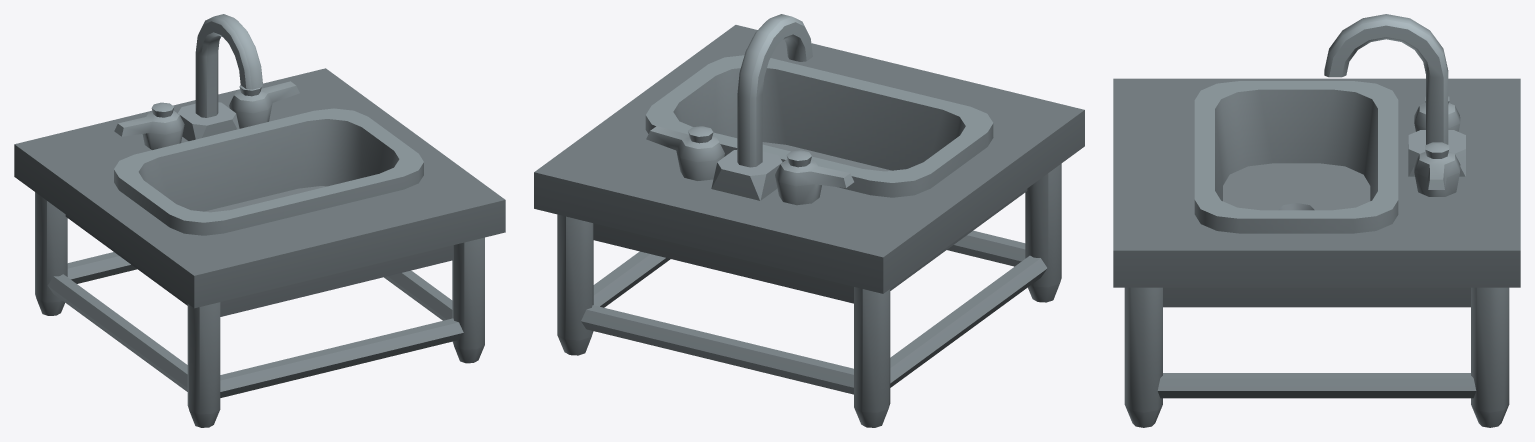
File: Kitchentable Sink.glb
The picture shows the model from 3 angles, left to right: view 1: azimuth 30°, elevation 25°; view 2: azimuth 150°, elevation 25°; view 3: azimuth 270°, elevation 25°; orthographic projection. The views are drawn at different scales.
Parts seen in each view (by area): view 1: kitchentable_sink; view 2: kitchentable_sink; view 3: kitchentable_sink.
Boxes of the visible parts, bbox=[...] form: kitchentable_sink: bbox=[14, 14, 505, 427]; kitchentable_sink: bbox=[534, 14, 1084, 427]; kitchentable_sink: bbox=[1113, 14, 1520, 427].
Size of the model in its own units: 2 by 1.81 by 2.
1 material, 1 textured.
